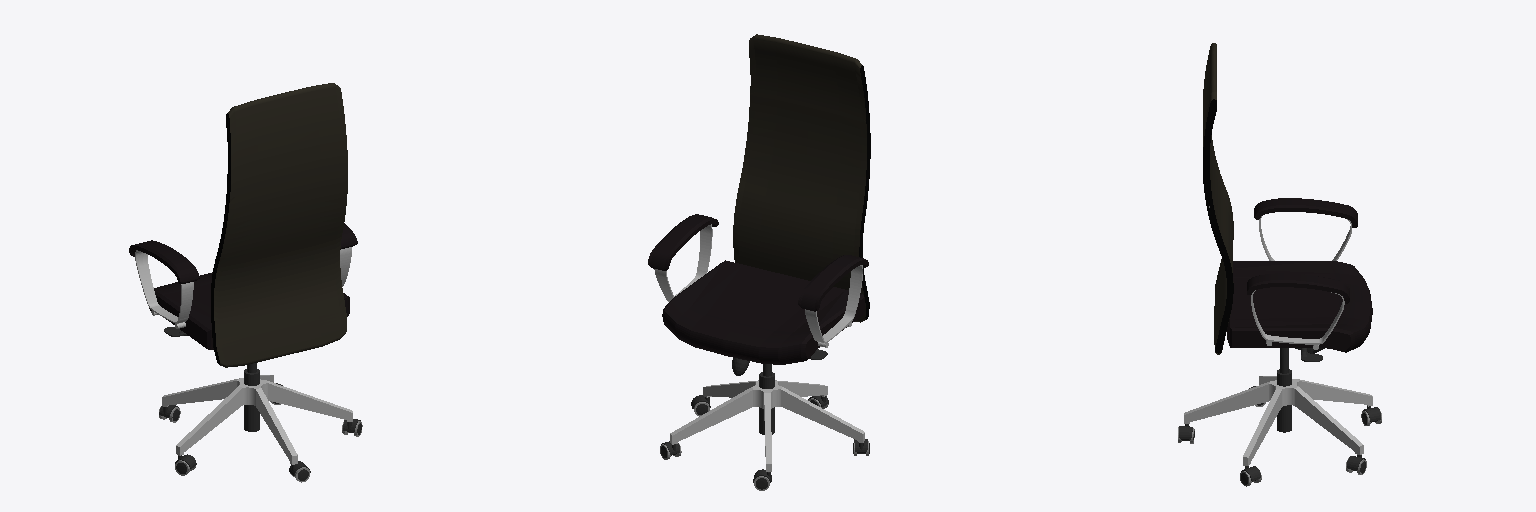
3 renders of one model, left to right at view 1: azimuth 30°, elevation 25°; view 2: azimuth 150°, elevation 25°; view 3: azimuth 270°, elevation 25°, orthographic.
Visible parts, largest first — view 1: Mesh1 Group1 Model, Mesh3 Group3 Model, Mesh6 Group6 Model, Mesh12 Group10 Armrest2 Model, Mesh13 Group11 Armrest2 Model, Mesh2 Group2 Model; view 2: Mesh1 Group1 Model, Mesh6 Group6 Model, Mesh3 Group3 Model, Mesh13 Group11 Armrest2 Model, Mesh9 Group9 Armrest1 Model, Mesh12 Group10 Armrest2 Model, Mesh8 Group8 Armrest1 Model, Mesh2 Group2 Model; view 3: Mesh6 Group6 Model, Mesh3 Group3 Model, Mesh1 Group1 Model, Mesh13 Group11 Armrest2 Model, Mesh9 Group9 Armrest1 Model, Mesh2 Group2 Model, Mesh8 Group8 Armrest1 Model.
Part boxes in pixels (x1,y1,x2,y2): Mesh1 Group1 Model: (211,83,347,367); Mesh3 Group3 Model: (162,375,352,464); Mesh6 Group6 Model: (149,272,349,349); Mesh12 Group10 Armrest2 Model: (135,250,193,323); Mesh13 Group11 Armrest2 Model: (129,240,199,283); Mesh2 Group2 Model: (244,363,259,431); Mesh1 Group1 Model: (733,34,870,322); Mesh6 Group6 Model: (662,260,864,364); Mesh3 Group3 Model: (670,380,864,471); Mesh13 Group11 Armrest2 Model: (798,255,868,311); Mesh9 Group9 Armrest1 Model: (648,214,718,270); Mesh12 Group10 Armrest2 Model: (805,265,862,343); Mesh8 Group8 Armrest1 Model: (654,224,712,301); Mesh2 Group2 Model: (759,364,774,434); Mesh6 Group6 Model: (1227,261,1372,352); Mesh3 Group3 Model: (1184,376,1372,465); Mesh1 Group1 Model: (1203,43,1233,354); Mesh13 Group11 Armrest2 Model: (1254,198,1357,227); Mesh9 Group9 Armrest1 Model: (1247,273,1349,303); Mesh2 Group2 Model: (1277,348,1291,432); Mesh8 Group8 Armrest1 Model: (1251,290,1344,344).
Size of the model in its own units: 0.4538 by 0.8944 by 0.4412.